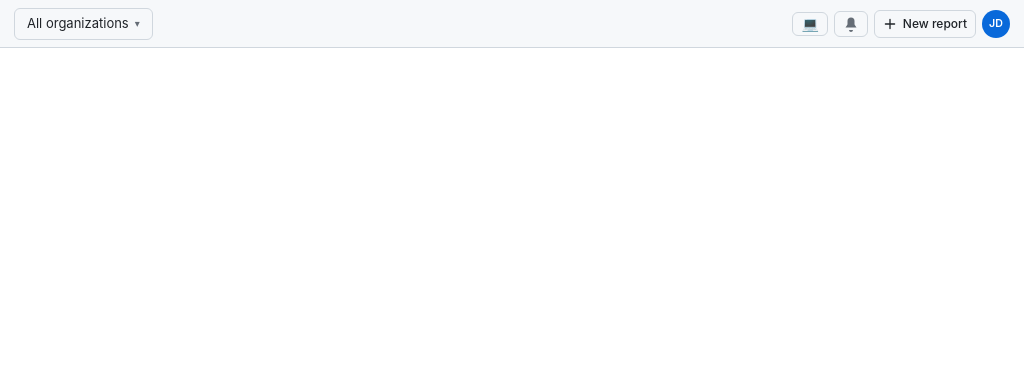
TopBar › selects org from dropdown and closes it
This screenshot has width=1024, height=374.
What coordinates should you click on to do the following:
click the button with aria-label "Select organization"
I would click on:
 (83, 24)
Its box is [14,8,153,40].
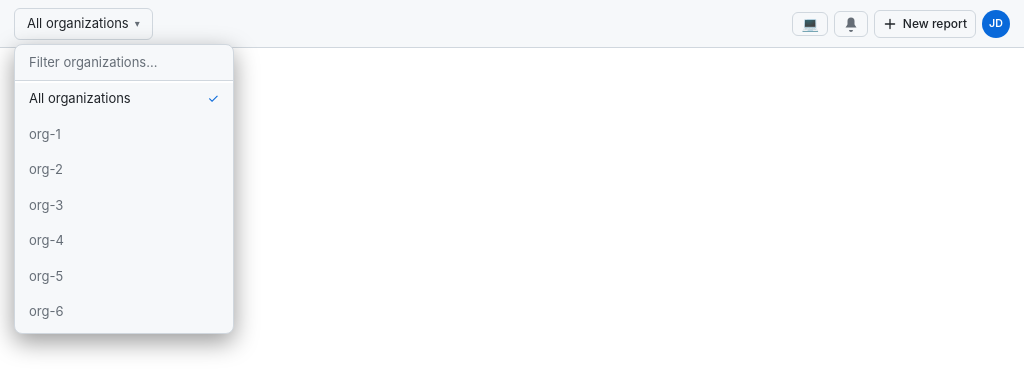
What coordinates should you click on to do the following:
click the option "org-3"
I would click on:
 (124, 205)
Its box is [15,188,233,223].
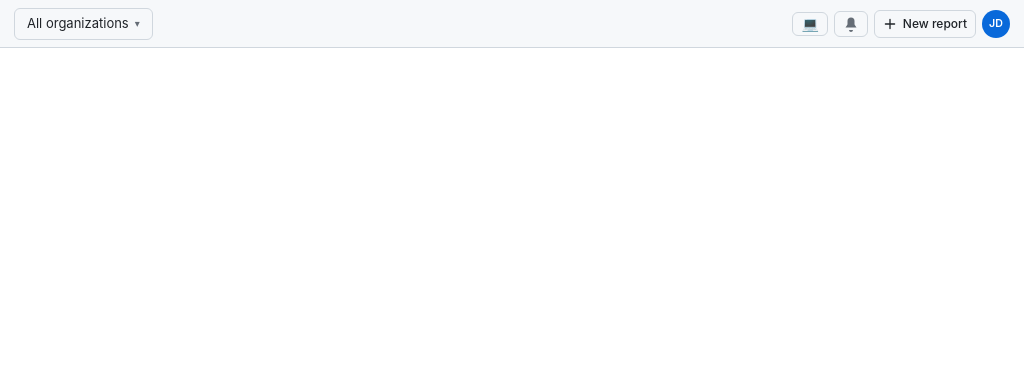
expect the field labelled "Filter organizations" is gone: met
